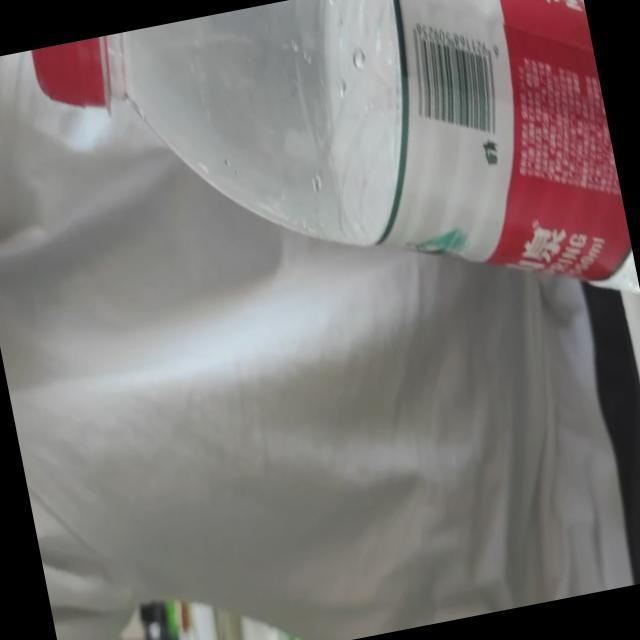good: (23, 0, 640, 397)
